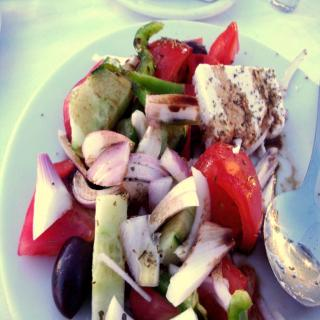Cucumber: (90, 192, 129, 320), (72, 66, 132, 149), (160, 204, 198, 268)
Salad: (14, 18, 306, 320)
Tomato: (197, 135, 265, 257), (16, 191, 95, 256), (148, 37, 191, 83), (210, 19, 239, 62), (219, 258, 247, 297)
